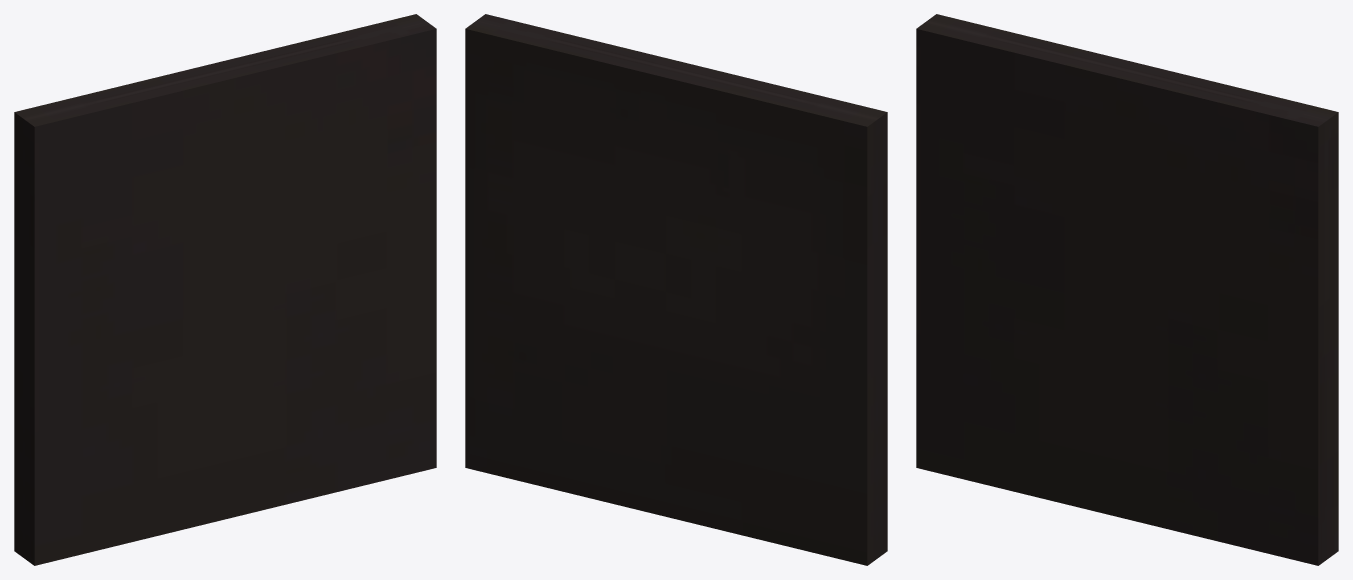
File: seat__seat_plate.glb
3 renders of one model, left to right at view 1: azimuth 30°, elevation 25°; view 2: azimuth 150°, elevation 25°; view 3: azimuth 330°, elevation 25°, orthographic.
Visible parts, largest first — view 1: world; view 2: world; view 3: world.
Part boxes in pixels (box(x1,y1,x2,y2)): world: box(14, 14, 436, 565); world: box(465, 14, 887, 565); world: box(916, 14, 1338, 565).
Bounding box in the file's own units: 0.23 × 0.24 × 0.02.
Materials: 1 (1 with a texture image).
